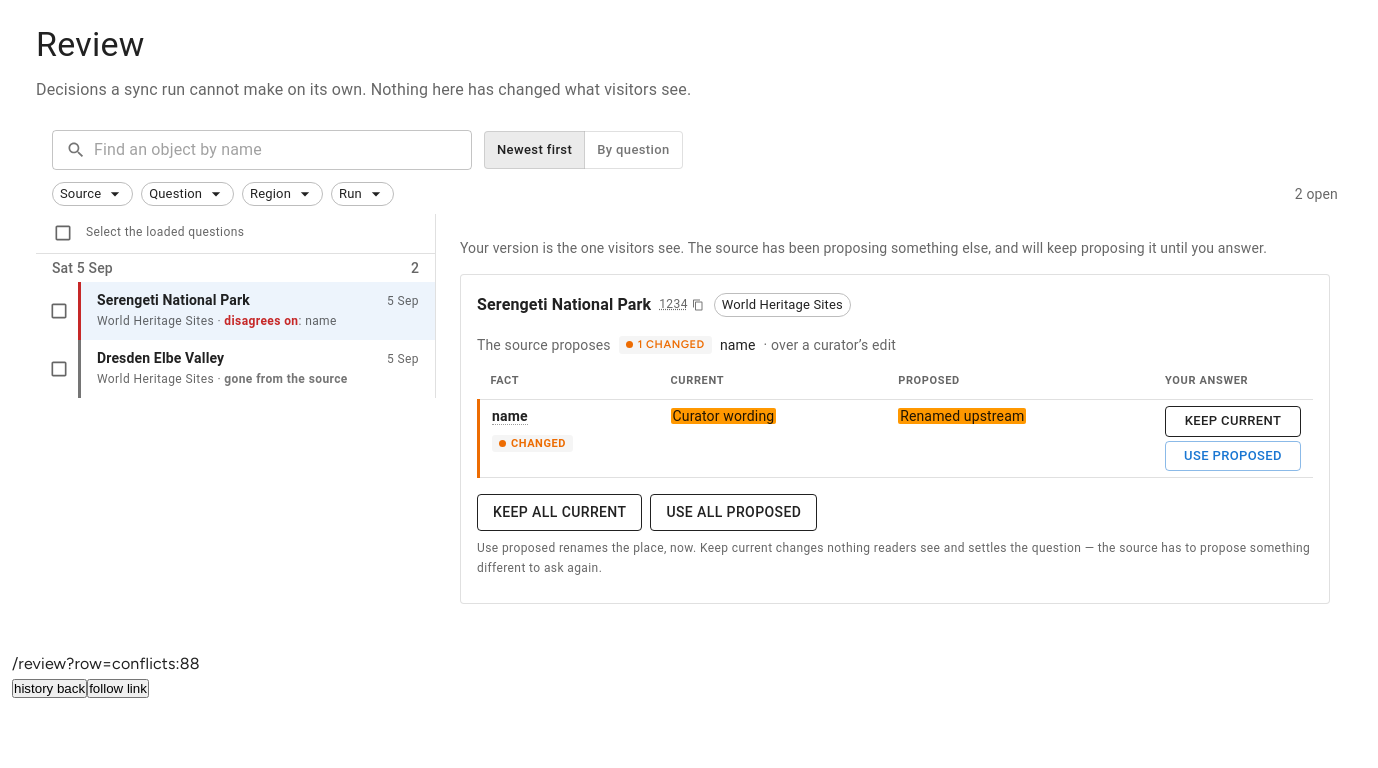
Test: ReviewPage › does not re-read the list when a curator opens a question in it
This screenshot has width=1378, height=768.
Expected: the column heading "Current" is shown, left=658, top=363, right=886, bottom=399
Click the button "Dresden Elbe Valley" at x=256, y=369, box left=78, top=340, right=435, bottom=398
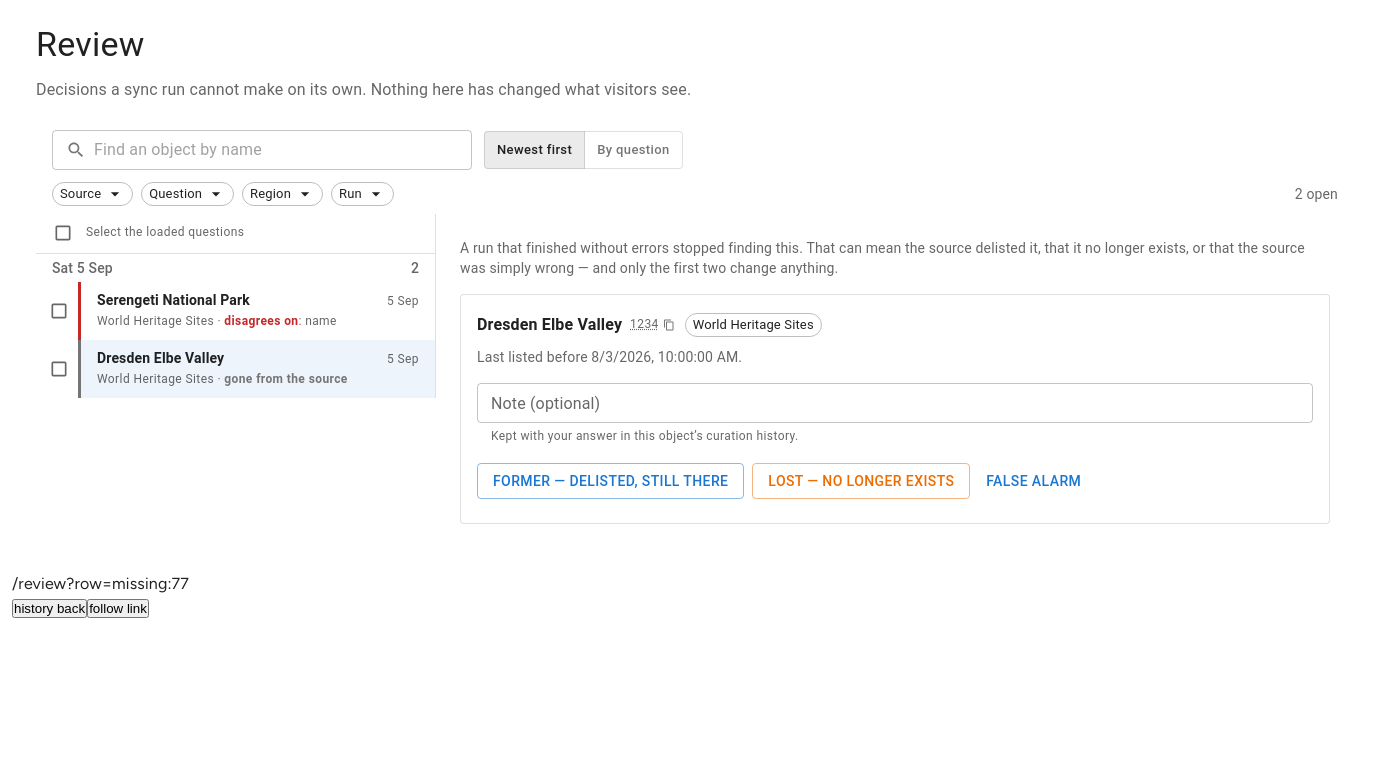
Result: the button "Former — delisted, still there" is shown at left=477, top=463, right=744, bottom=499
